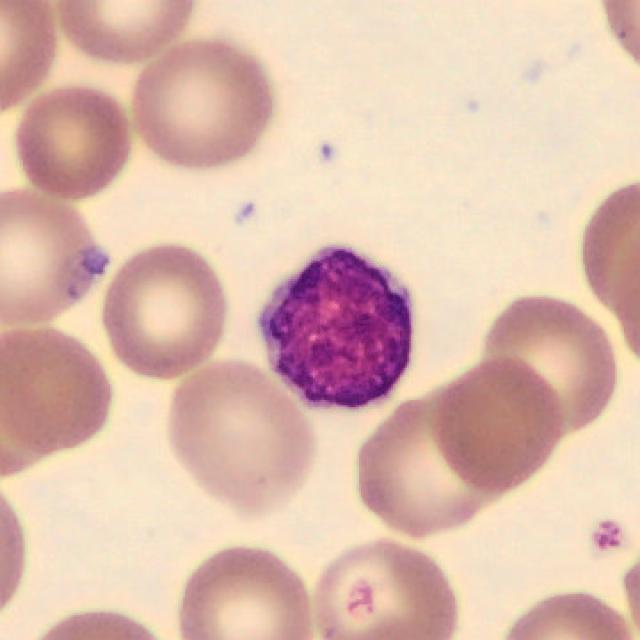Linfocito: (261, 249, 409, 405)
